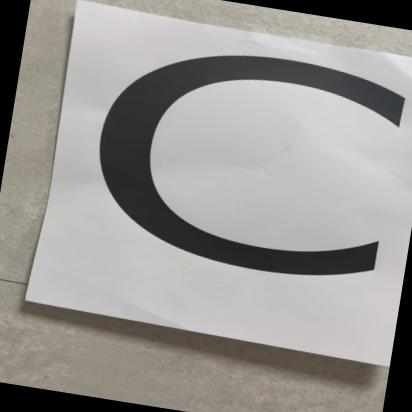seat: (40, 9, 412, 359)
